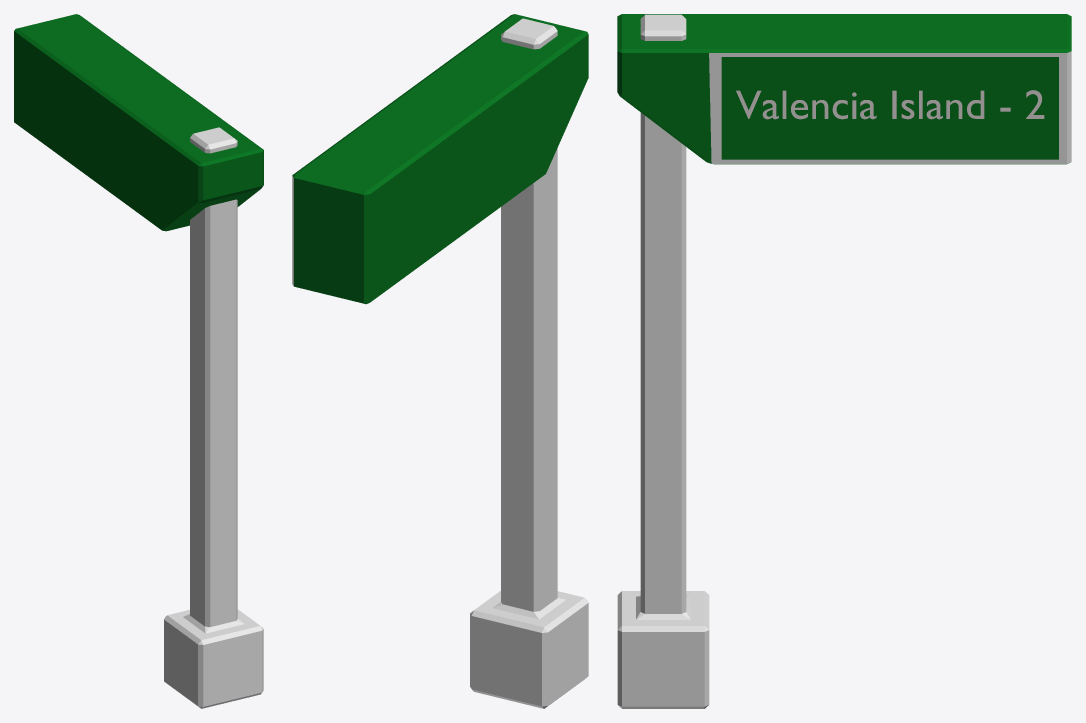
File: small_sign_2.fbx
The picture shows the model from 3 angles, left to right: view 1: azimuth 30°, elevation 25°; view 2: azimuth 150°, elevation 25°; view 3: azimuth 270°, elevation 25°; orthographic projection. The views are drawn at different scales.
Parts seen in each view (by area): view 1: Cube.001, Cube; view 2: Cube.001, Cube; view 3: Cube.001, Cube, Text.
Part boxes in pixels (box(x1,y1,x2,y2)): Cube.001: box(14, 14, 263, 231); Cube: box(164, 127, 263, 708); Cube.001: box(292, 14, 588, 304); Cube: box(470, 18, 588, 708); Cube.001: box(617, 14, 1071, 164); Cube: box(617, 14, 709, 708); Text: box(736, 90, 1044, 119).
Bounding box in the file's own units: 6.17 × 48.28 × 29.71.
